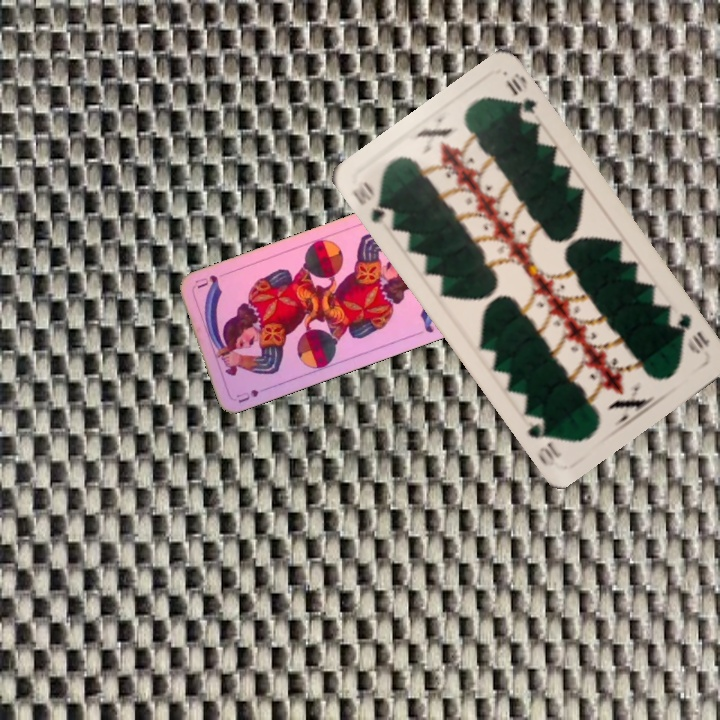G10: (347, 177, 397, 226), (670, 308, 713, 357)
SU: (232, 383, 272, 406)
